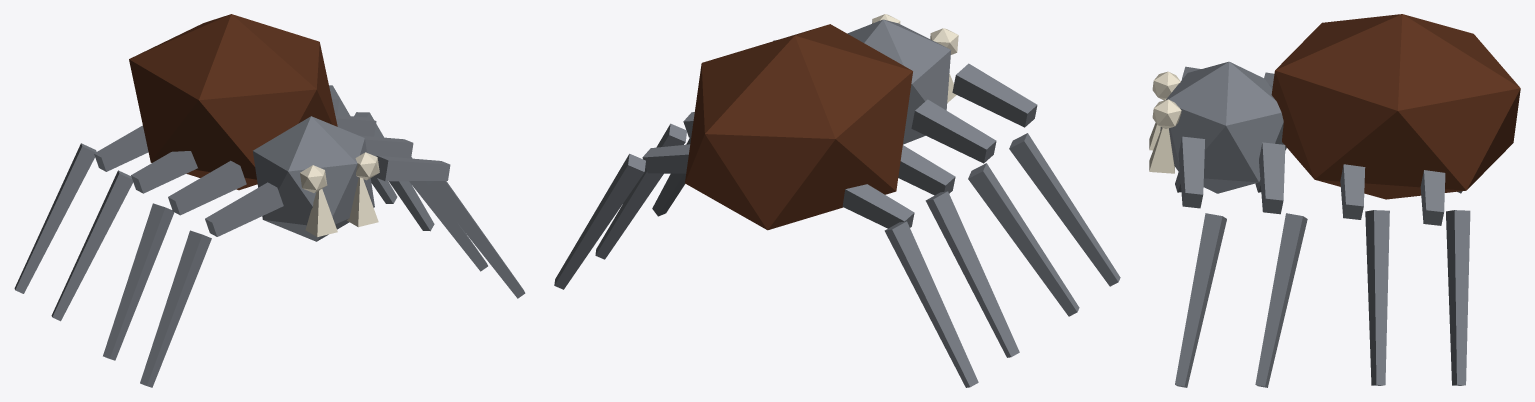
File: npcpose_spider_attack_02.glb
3 views of the same model, side by side, from view 1: azimuth 30°, elevation 25°; view 2: azimuth 150°, elevation 25°; view 3: azimuth 270°, elevation 25° (orthographic). The views are drawn at different scales.
Parts seen in each view (by area): view 1: npcpose; view 2: npcpose; view 3: npcpose.
Boxes of the visible parts, bbox=[...] form: npcpose: bbox=[14, 14, 525, 387]; npcpose: bbox=[554, 14, 1120, 387]; npcpose: bbox=[1149, 14, 1520, 387].
Size of the model in its own units: 1.31 by 0.8311 by 1.01.
